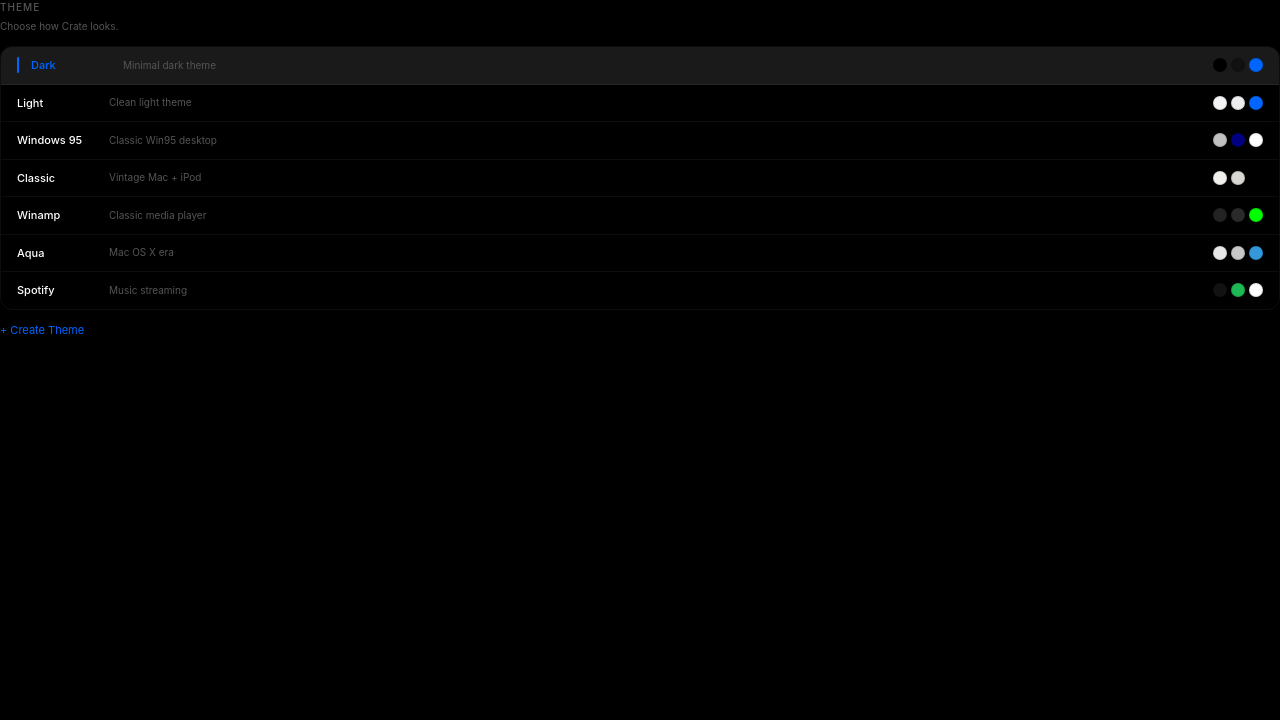
Test: AppearanceSection › opens the custom theme editor when create is clicked
The image size is (1280, 720).
Click the button with test id "create-theme-btn".
click(42, 330)  # box left=0, top=322, right=84, bottom=338
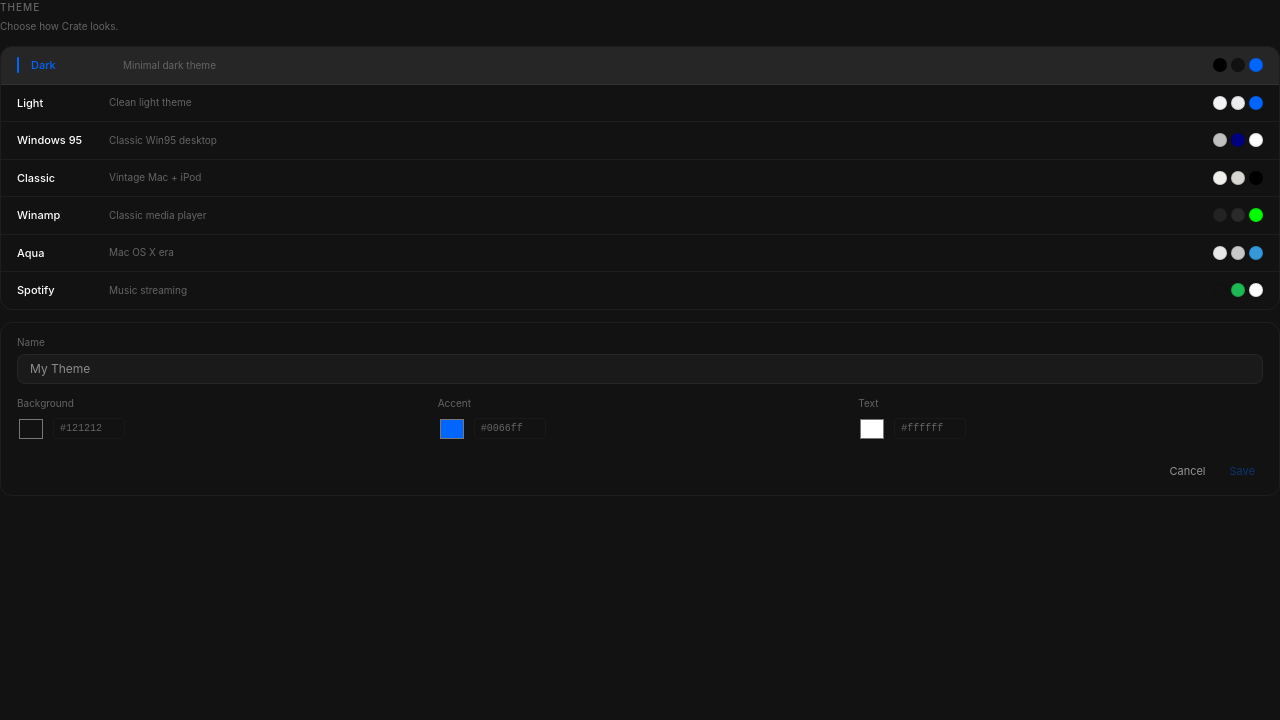
Result: the button with test id "create-theme-btn" is gone
